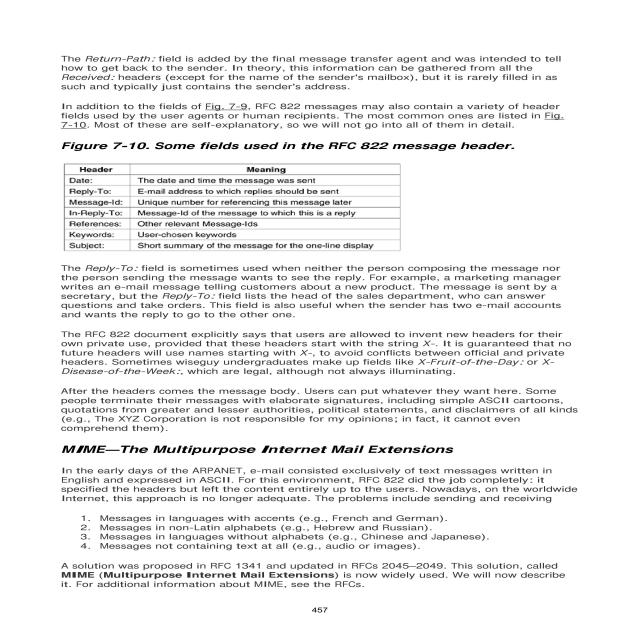diagram: (47, 134, 530, 262), (82, 518, 516, 561)
